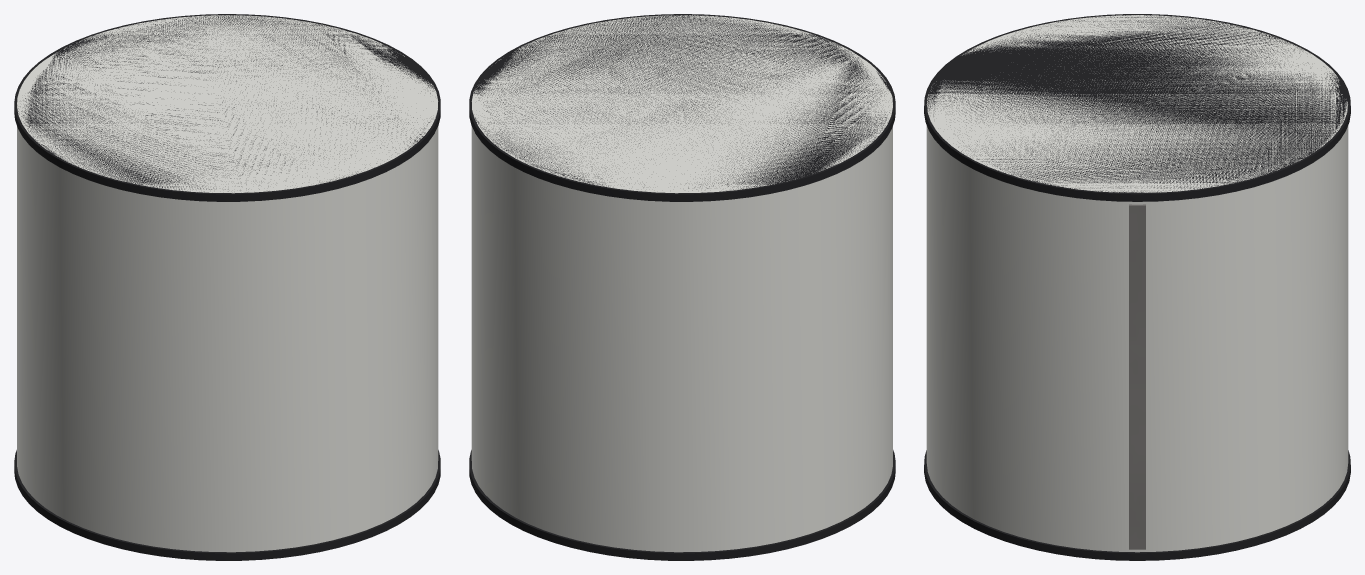
File: tank13_tank_length_series_xs_short.glb
3 views of the same model, side by side, from view 1: azimuth 30°, elevation 25°; view 2: azimuth 150°, elevation 25°; view 3: azimuth 270°, elevation 25° (orthographic).
Visible parts, largest first — view 1: tank, stack_flanges; view 2: tank, stack_flanges; view 3: tank, stack_flanges, feedline.
Boxes of the visible parts, bbox=[...] form: tank: bbox=[17, 15, 438, 552]; stack_flanges: bbox=[14, 14, 440, 560]; tank: bbox=[471, 15, 892, 552]; stack_flanges: bbox=[469, 14, 895, 560]; tank: bbox=[926, 15, 1348, 552]; stack_flanges: bbox=[924, 14, 1350, 560]; feedline: bbox=[1129, 204, 1145, 549].
Bounding box in the file's own units: 0.6326 × 0.6 × 0.6328.
3 materials, 1 textured.
